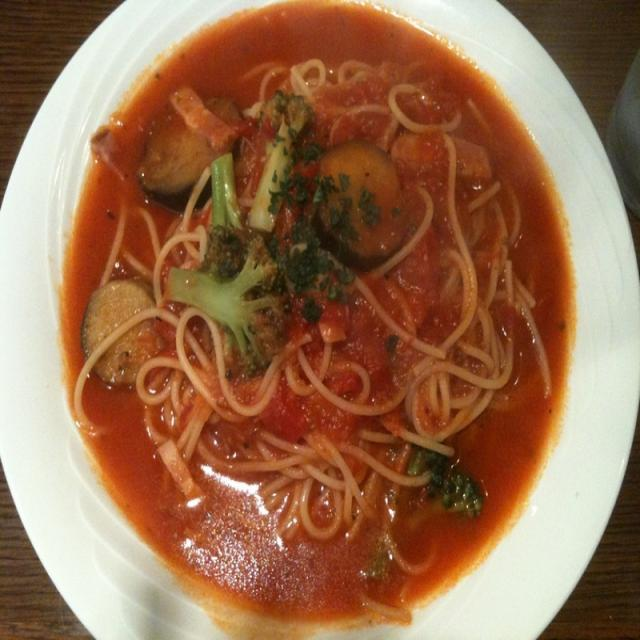Pasta: (30, 0, 588, 640)
